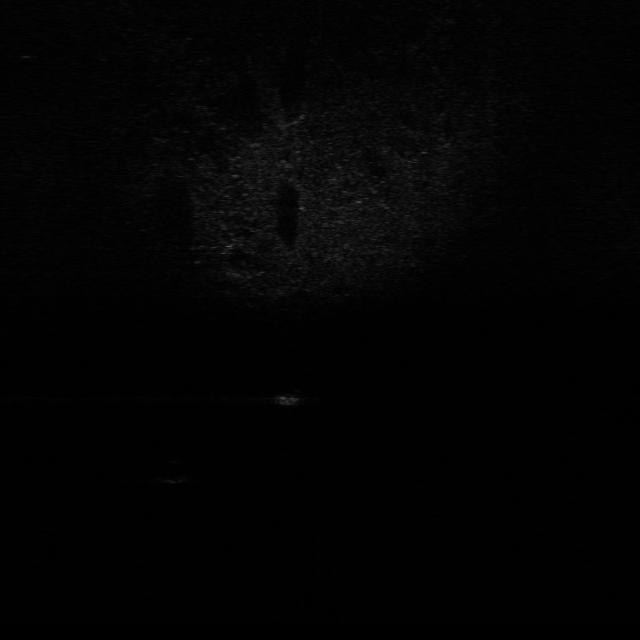ball: (150, 456, 192, 485)
cube: (268, 385, 308, 410)
